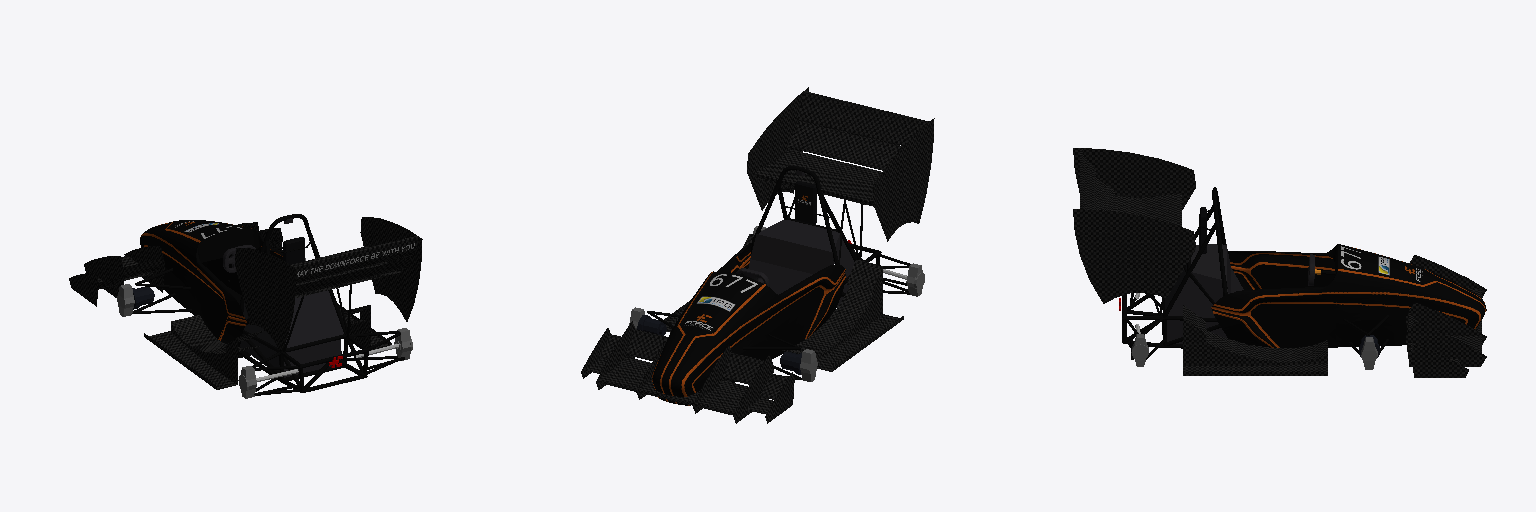
The picture shows the model from 3 angles: view 1: azimuth 30°, elevation 25°; view 2: azimuth 150°, elevation 25°; view 3: azimuth 270°, elevation 25°; orthographic projection.
Parts seen in each view (by area): view 1: Plane.051_Plane.056, Plane.048, Plane.031_Plane.028, Plane.024, Cylinder.020_Cylinder.011, Plane.019, Cube.006_Cube.003, Cube.010, Cylinder.025_Cylinder.018; view 2: Plane.051_Plane.056, Plane.048, Plane.024, Plane.031_Plane.028, Plane.017, Cylinder.020_Cylinder.011, Cube.009, Cylinder.033_Cylinder.023, Cube.011; view 3: Plane.048, Plane.051_Plane.056, Plane.031_Plane.028, Plane.024, Cylinder.020_Cylinder.011, Plane.017, Plane.018.
Part boxes in pixels (bbox=[...]): Plane.051_Plane.056: bbox=[235, 217, 422, 352]; Plane.048: bbox=[140, 220, 282, 357]; Plane.031_Plane.028: bbox=[144, 303, 391, 389]; Plane.024: bbox=[69, 222, 282, 306]; Cylinder.020_Cylinder.011: bbox=[239, 214, 368, 392]; Plane.019: bbox=[285, 290, 343, 347]; Cube.006_Cube.003: bbox=[240, 339, 340, 377]; Cube.010: bbox=[241, 328, 410, 398]; Cylinder.025_Cylinder.018: bbox=[254, 356, 404, 395]; Plane.051_Plane.056: bbox=[747, 87, 934, 241]; Plane.048: bbox=[652, 243, 845, 405]; Plane.024: bbox=[581, 321, 794, 423]; Plane.031_Plane.028: bbox=[664, 234, 903, 371]; Plane.017: bbox=[748, 220, 839, 294]; Cylinder.020_Cylinder.011: bbox=[751, 166, 881, 296]; Cube.009: bbox=[795, 181, 816, 224]; Cylinder.033_Cylinder.023: bbox=[637, 315, 801, 374]; Cube.011: bbox=[629, 307, 817, 381]; Plane.048: bbox=[1211, 244, 1485, 347]; Plane.051_Plane.056: bbox=[1073, 148, 1195, 303]; Plane.031_Plane.028: bbox=[1183, 305, 1327, 375]; Plane.024: bbox=[1406, 255, 1486, 377]; Cylinder.020_Cylinder.011: bbox=[1122, 187, 1227, 348]; Plane.017: bbox=[1191, 244, 1243, 293]; Plane.018: bbox=[1168, 277, 1214, 317].
Bounding box in the file's own units: 1.43 × 1.15 × 2.78.
Materials: 12 (5 with a texture image).